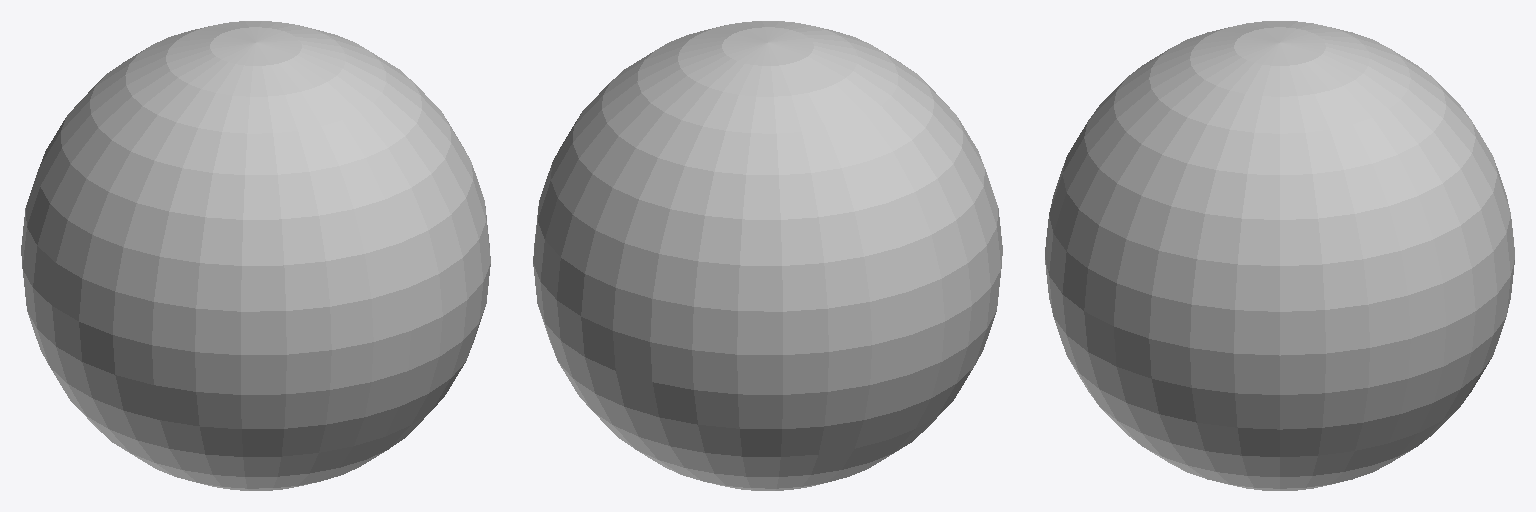
File: char.obj
3 renders of one model, left to right at view 1: azimuth 30°, elevation 25°; view 2: azimuth 150°, elevation 25°; view 3: azimuth 270°, elevation 25°, orthographic.
Visible parts, largest first — view 1: Sphere; view 2: Sphere; view 3: Sphere.
Part boxes in pixels (x1,y1,x2,y2): Sphere: (21, 21, 490, 490); Sphere: (533, 21, 1002, 490); Sphere: (1045, 21, 1514, 490).
Size of the model in its own units: 2 by 2 by 2.